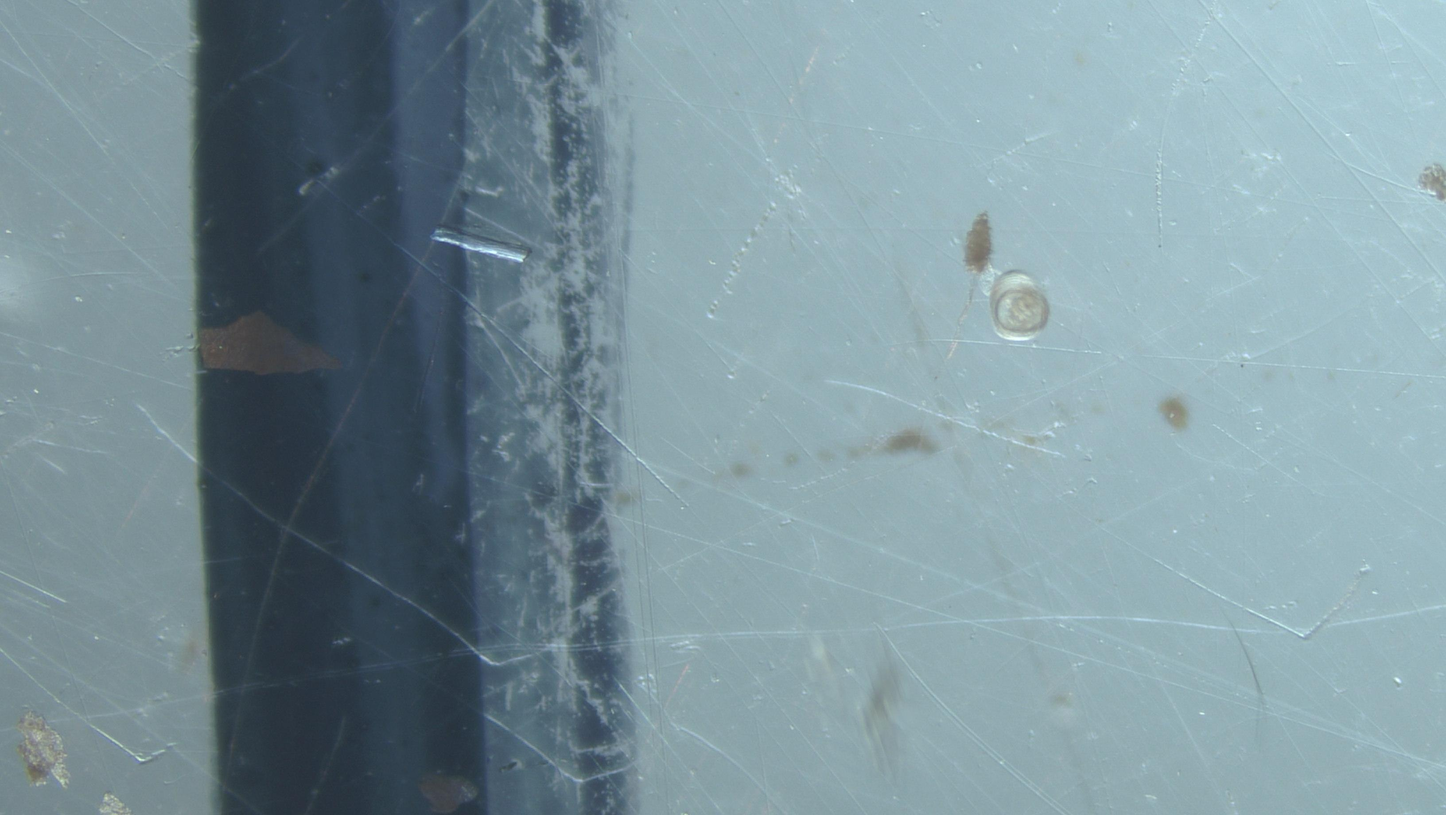dead: (991, 271, 1049, 339)
